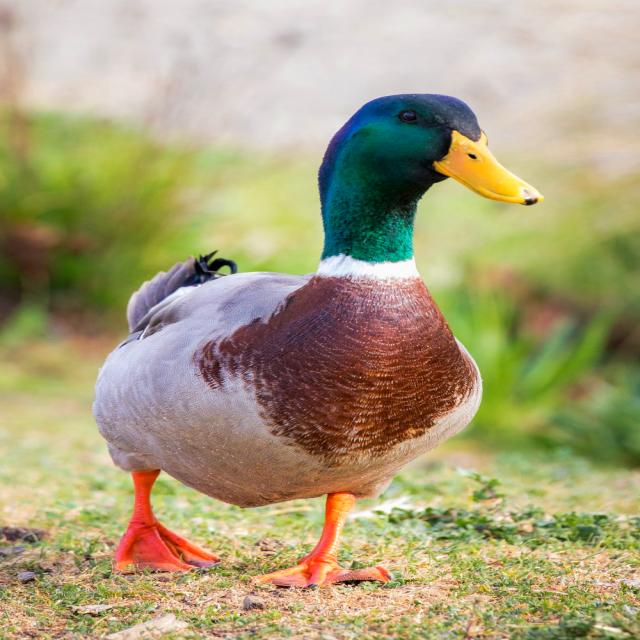duck: (93, 94, 543, 587)
